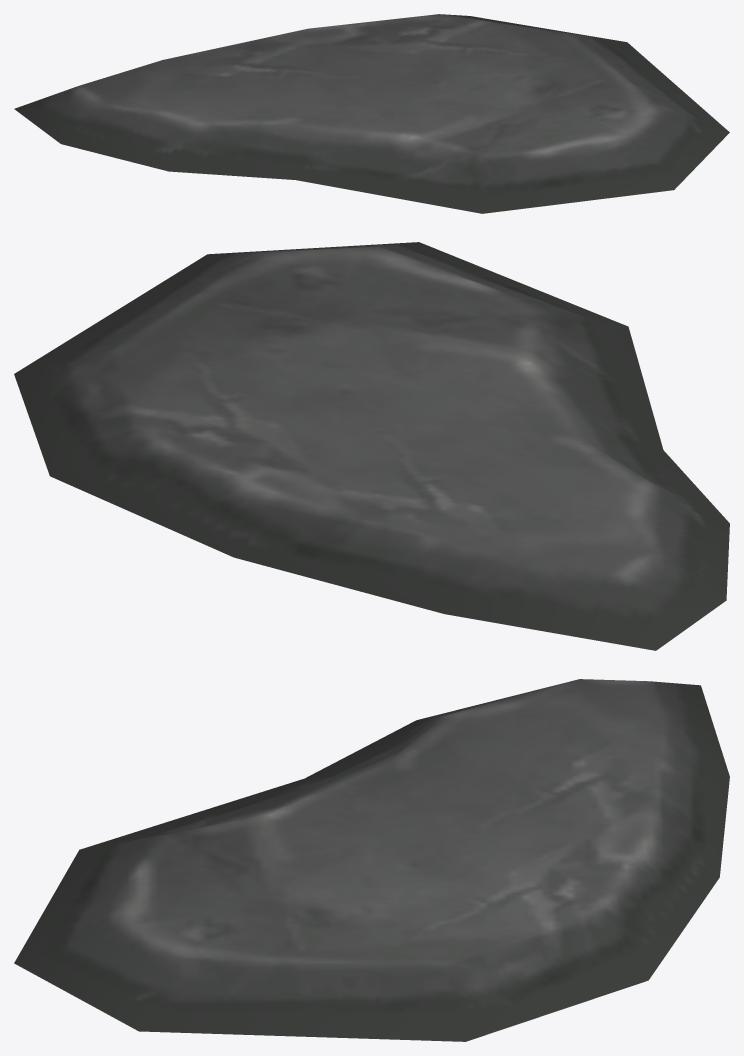
Rendered from yw_zhaoze_stones_002.FBX.
3 views of the same model, one above another, from view 1: azimuth 30°, elevation 25°; view 2: azimuth 150°, elevation 25°; view 3: azimuth 270°, elevation 25° (orthographic). The views are drawn at different scales.
Parts seen in each view (by area): view 1: yw_zhaoze_stones_002; view 2: yw_zhaoze_stones_002; view 3: yw_zhaoze_stones_002.
Boxes of the visible parts, x1,y1,x2,y2 form: yw_zhaoze_stones_002: (14,14,729,213); yw_zhaoze_stones_002: (14,242,729,650); yw_zhaoze_stones_002: (14,679,729,1041).
Bounding box in the file's own units: 653 × 553 × 29.81.
